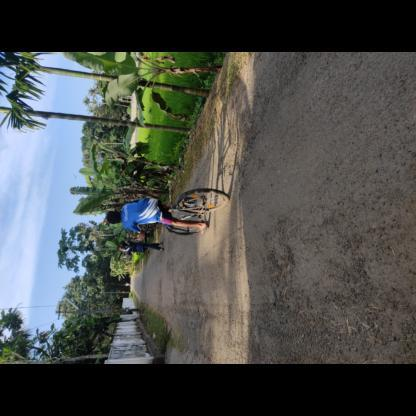Bicycle: (141, 184, 246, 248)
